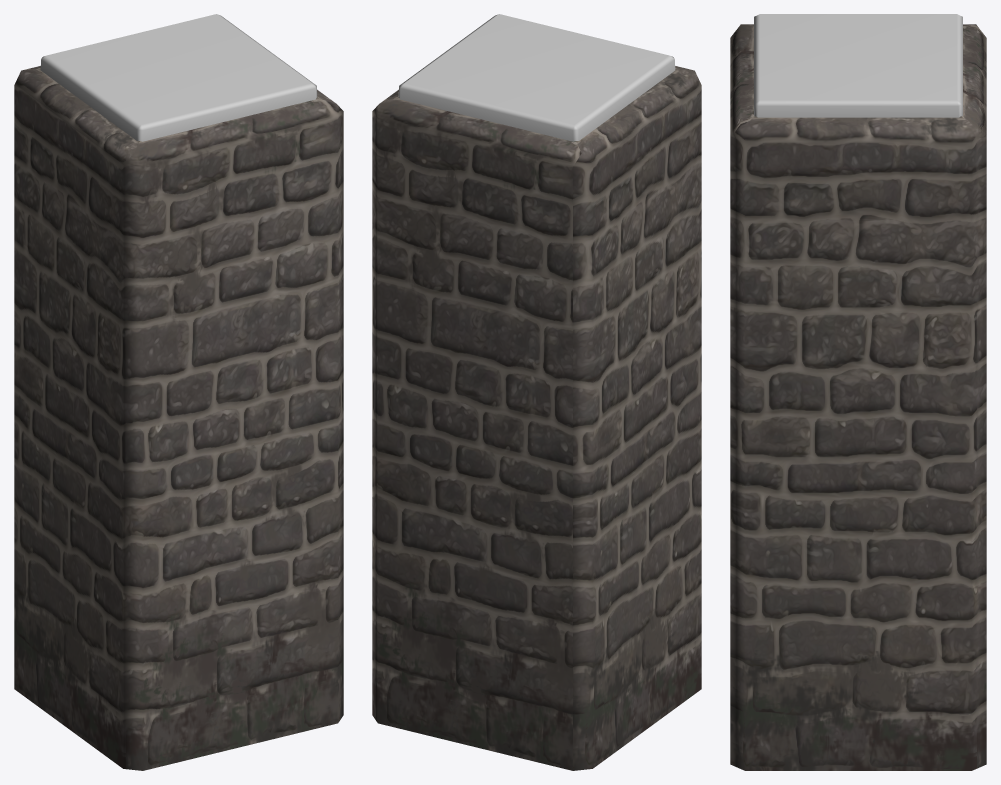
Rendered from StonePillar.fbx.
The picture shows the model from 3 angles, left to right: view 1: azimuth 30°, elevation 25°; view 2: azimuth 150°, elevation 25°; view 3: azimuth 270°, elevation 25°; orthographic projection. The views are drawn at different scales.
Parts seen in each view (by area): view 1: Mesh; view 2: Mesh; view 3: Mesh.
Boxes of the visible parts, box(x1,y1,x2,y2) form: Mesh: box(14, 14, 343, 770); Mesh: box(372, 14, 701, 770); Mesh: box(730, 14, 986, 770).
Bounding box in the file's own units: 154 × 422 × 149.
Materials: 2 (1 with a texture image).
